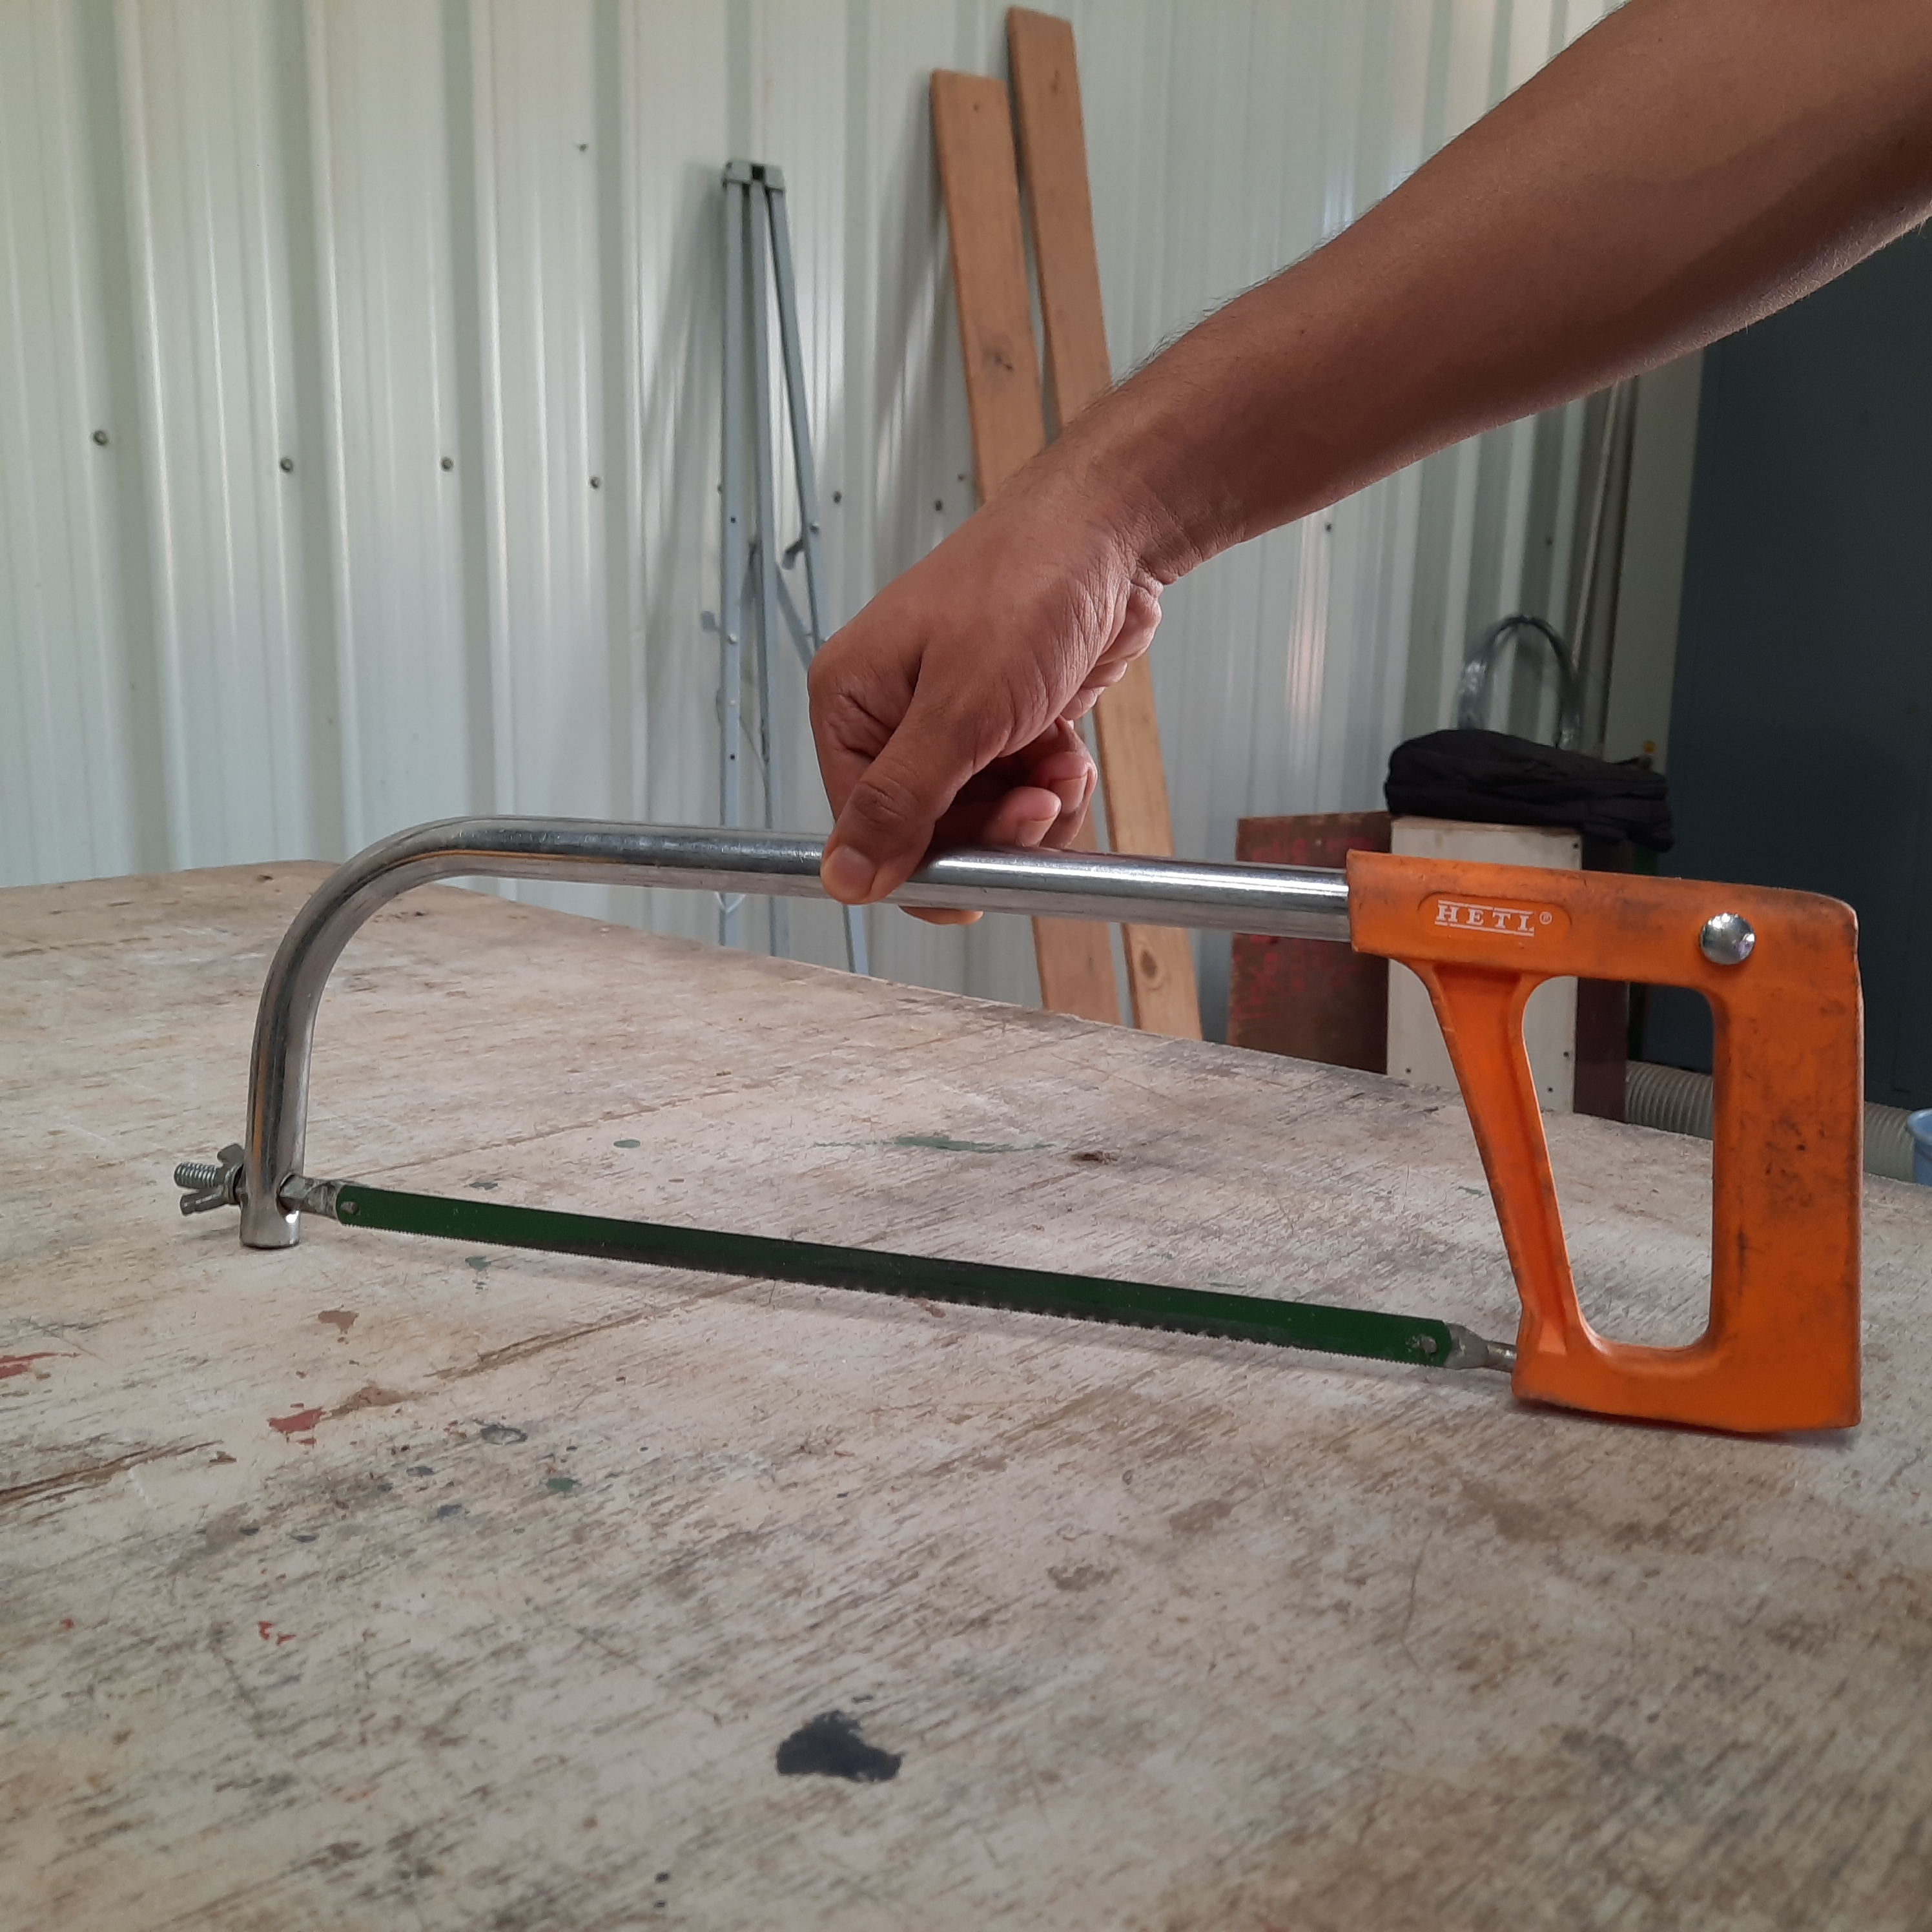Hexaframe: (186, 796, 1900, 1490)
